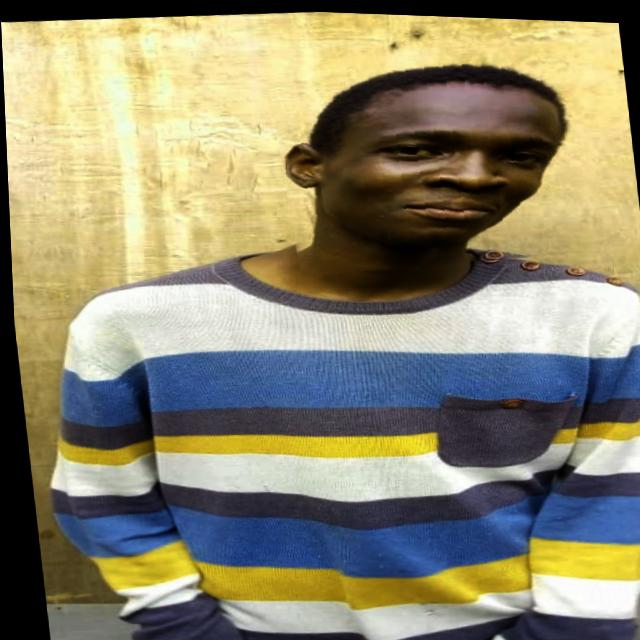sad: (266, 32, 604, 279)
